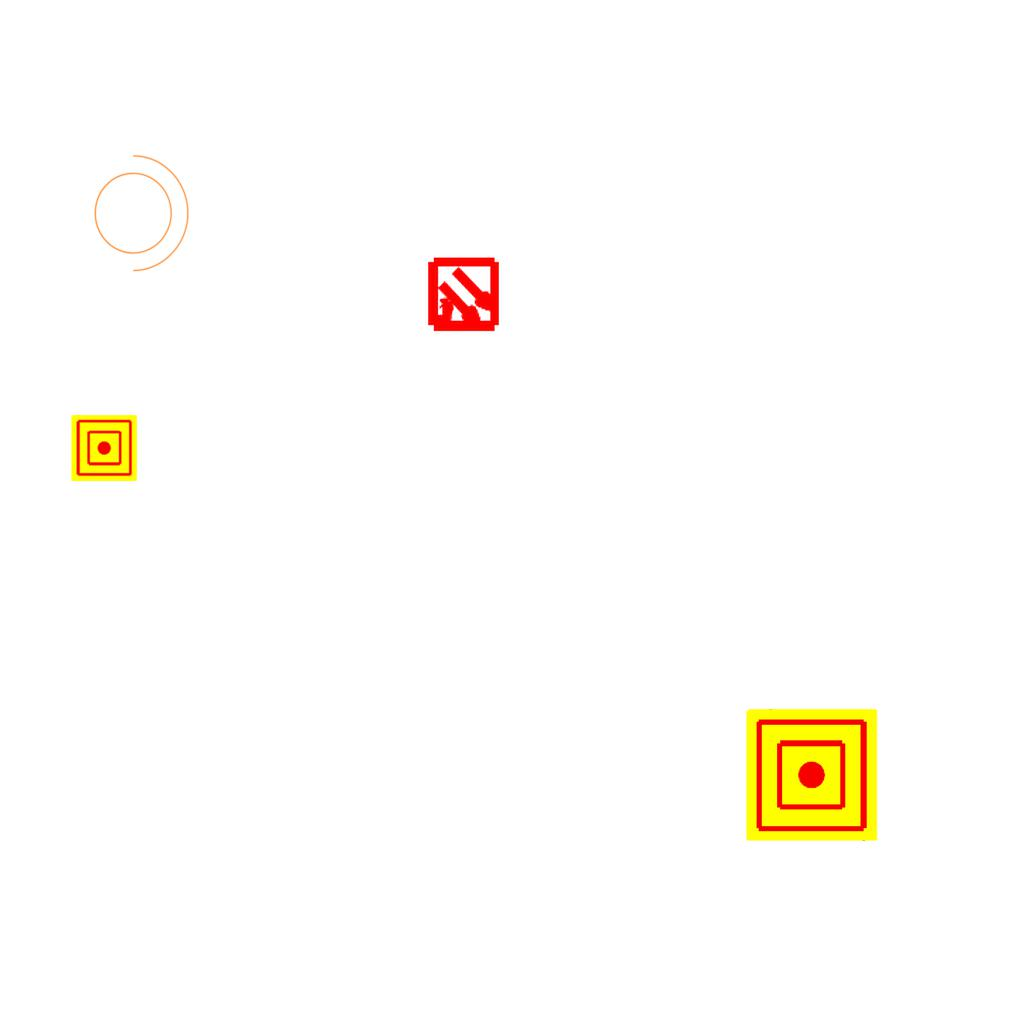NAM-Nichtautomatischer_Melder: (746, 709, 878, 841), (71, 415, 137, 481)
OT_Multisensormelder_(Kombination_RMO_WMD): (407, 240, 520, 353)
Scheinwerfer_fuer_Alarmbeleuchtung: (82, 144, 194, 276)
